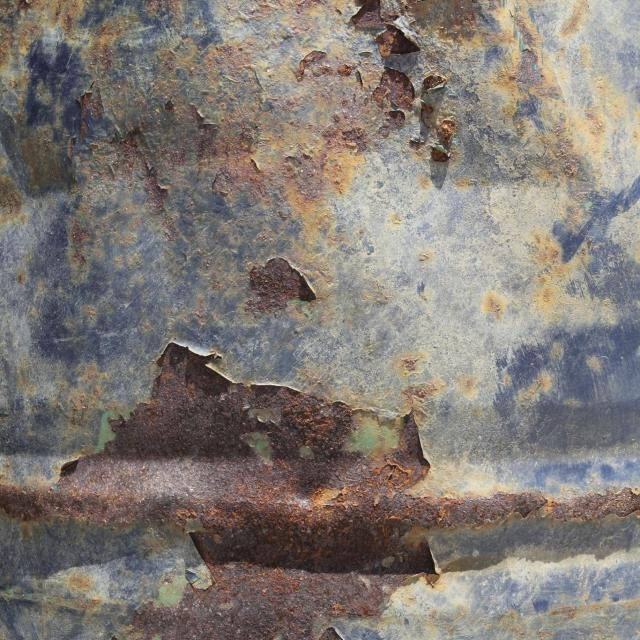Uniform Corrosion: (1, 343, 545, 573), (130, 563, 408, 639), (246, 257, 315, 313), (545, 488, 640, 521), (372, 67, 414, 109), (375, 26, 419, 57), (350, 0, 385, 29)
